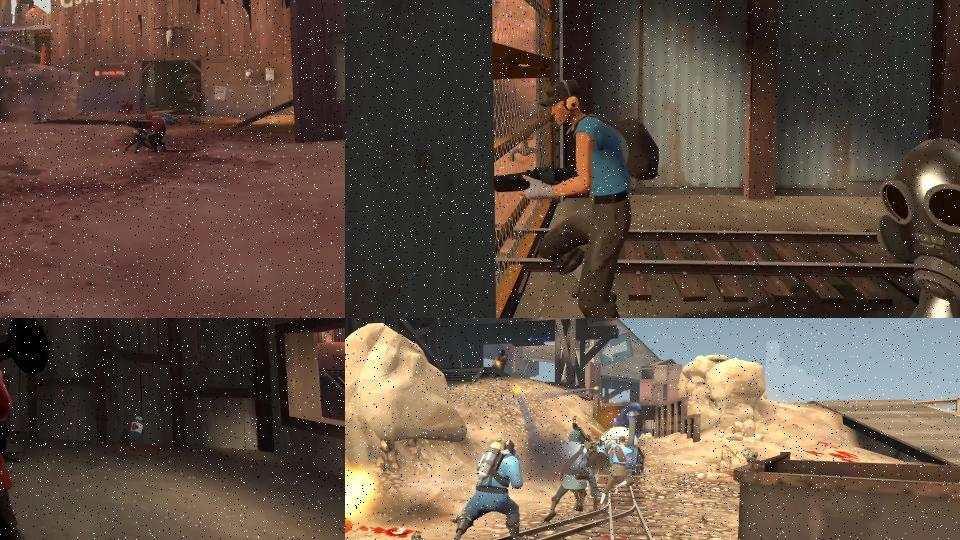Enemy: (490, 76, 659, 318), (875, 138, 960, 318), (0, 318, 59, 540), (442, 435, 533, 540), (543, 413, 599, 526), (596, 433, 641, 508), (144, 109, 168, 153), (182, 87, 203, 117), (490, 347, 511, 374), (15, 28, 32, 46)
